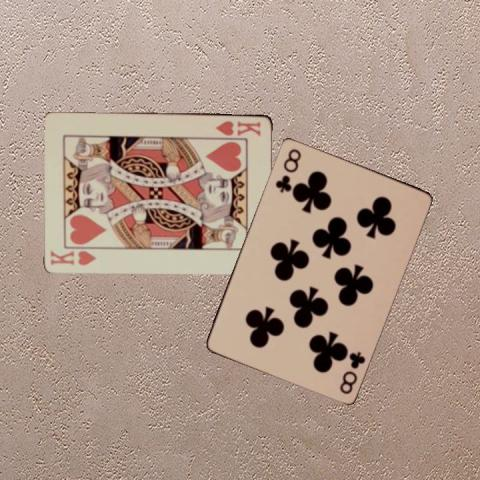8c: (272, 145, 303, 194), (336, 348, 367, 395)
Kh: (47, 247, 98, 267), (213, 118, 263, 138)
